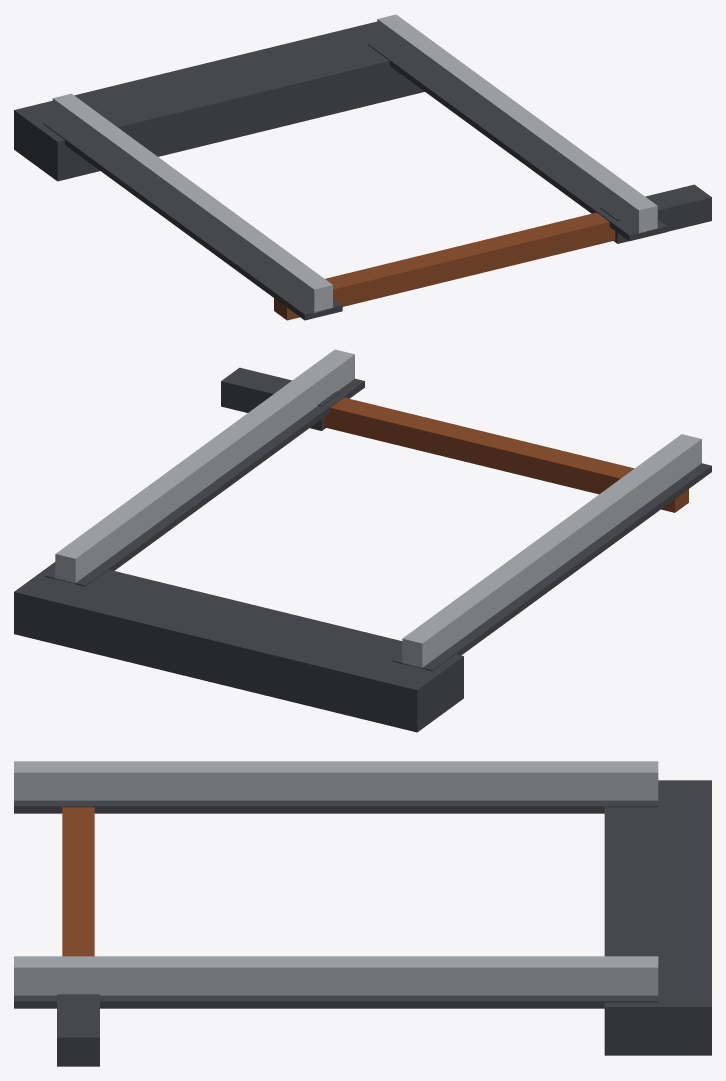
File: mine_rails_switch_blade.glb
3 views of the same model, one above another, from view 1: azimuth 30°, elevation 25°; view 2: azimuth 150°, elevation 25°; view 3: azimuth 270°, elevation 25° (orthographic). The views are drawn at different scales.
Parts seen in each view (by area): view 1: mine_rails_switch_blade; view 2: mine_rails_switch_blade; view 3: mine_rails_switch_blade.
Part boxes in pixels (box(x1,y1,x2,y2)): mine_rails_switch_blade: box(14, 14, 711, 320); mine_rails_switch_blade: box(14, 349, 711, 732); mine_rails_switch_blade: box(14, 761, 711, 1066).
Size of the model in its own units: 1.14 by 0.16 by 1.3.
